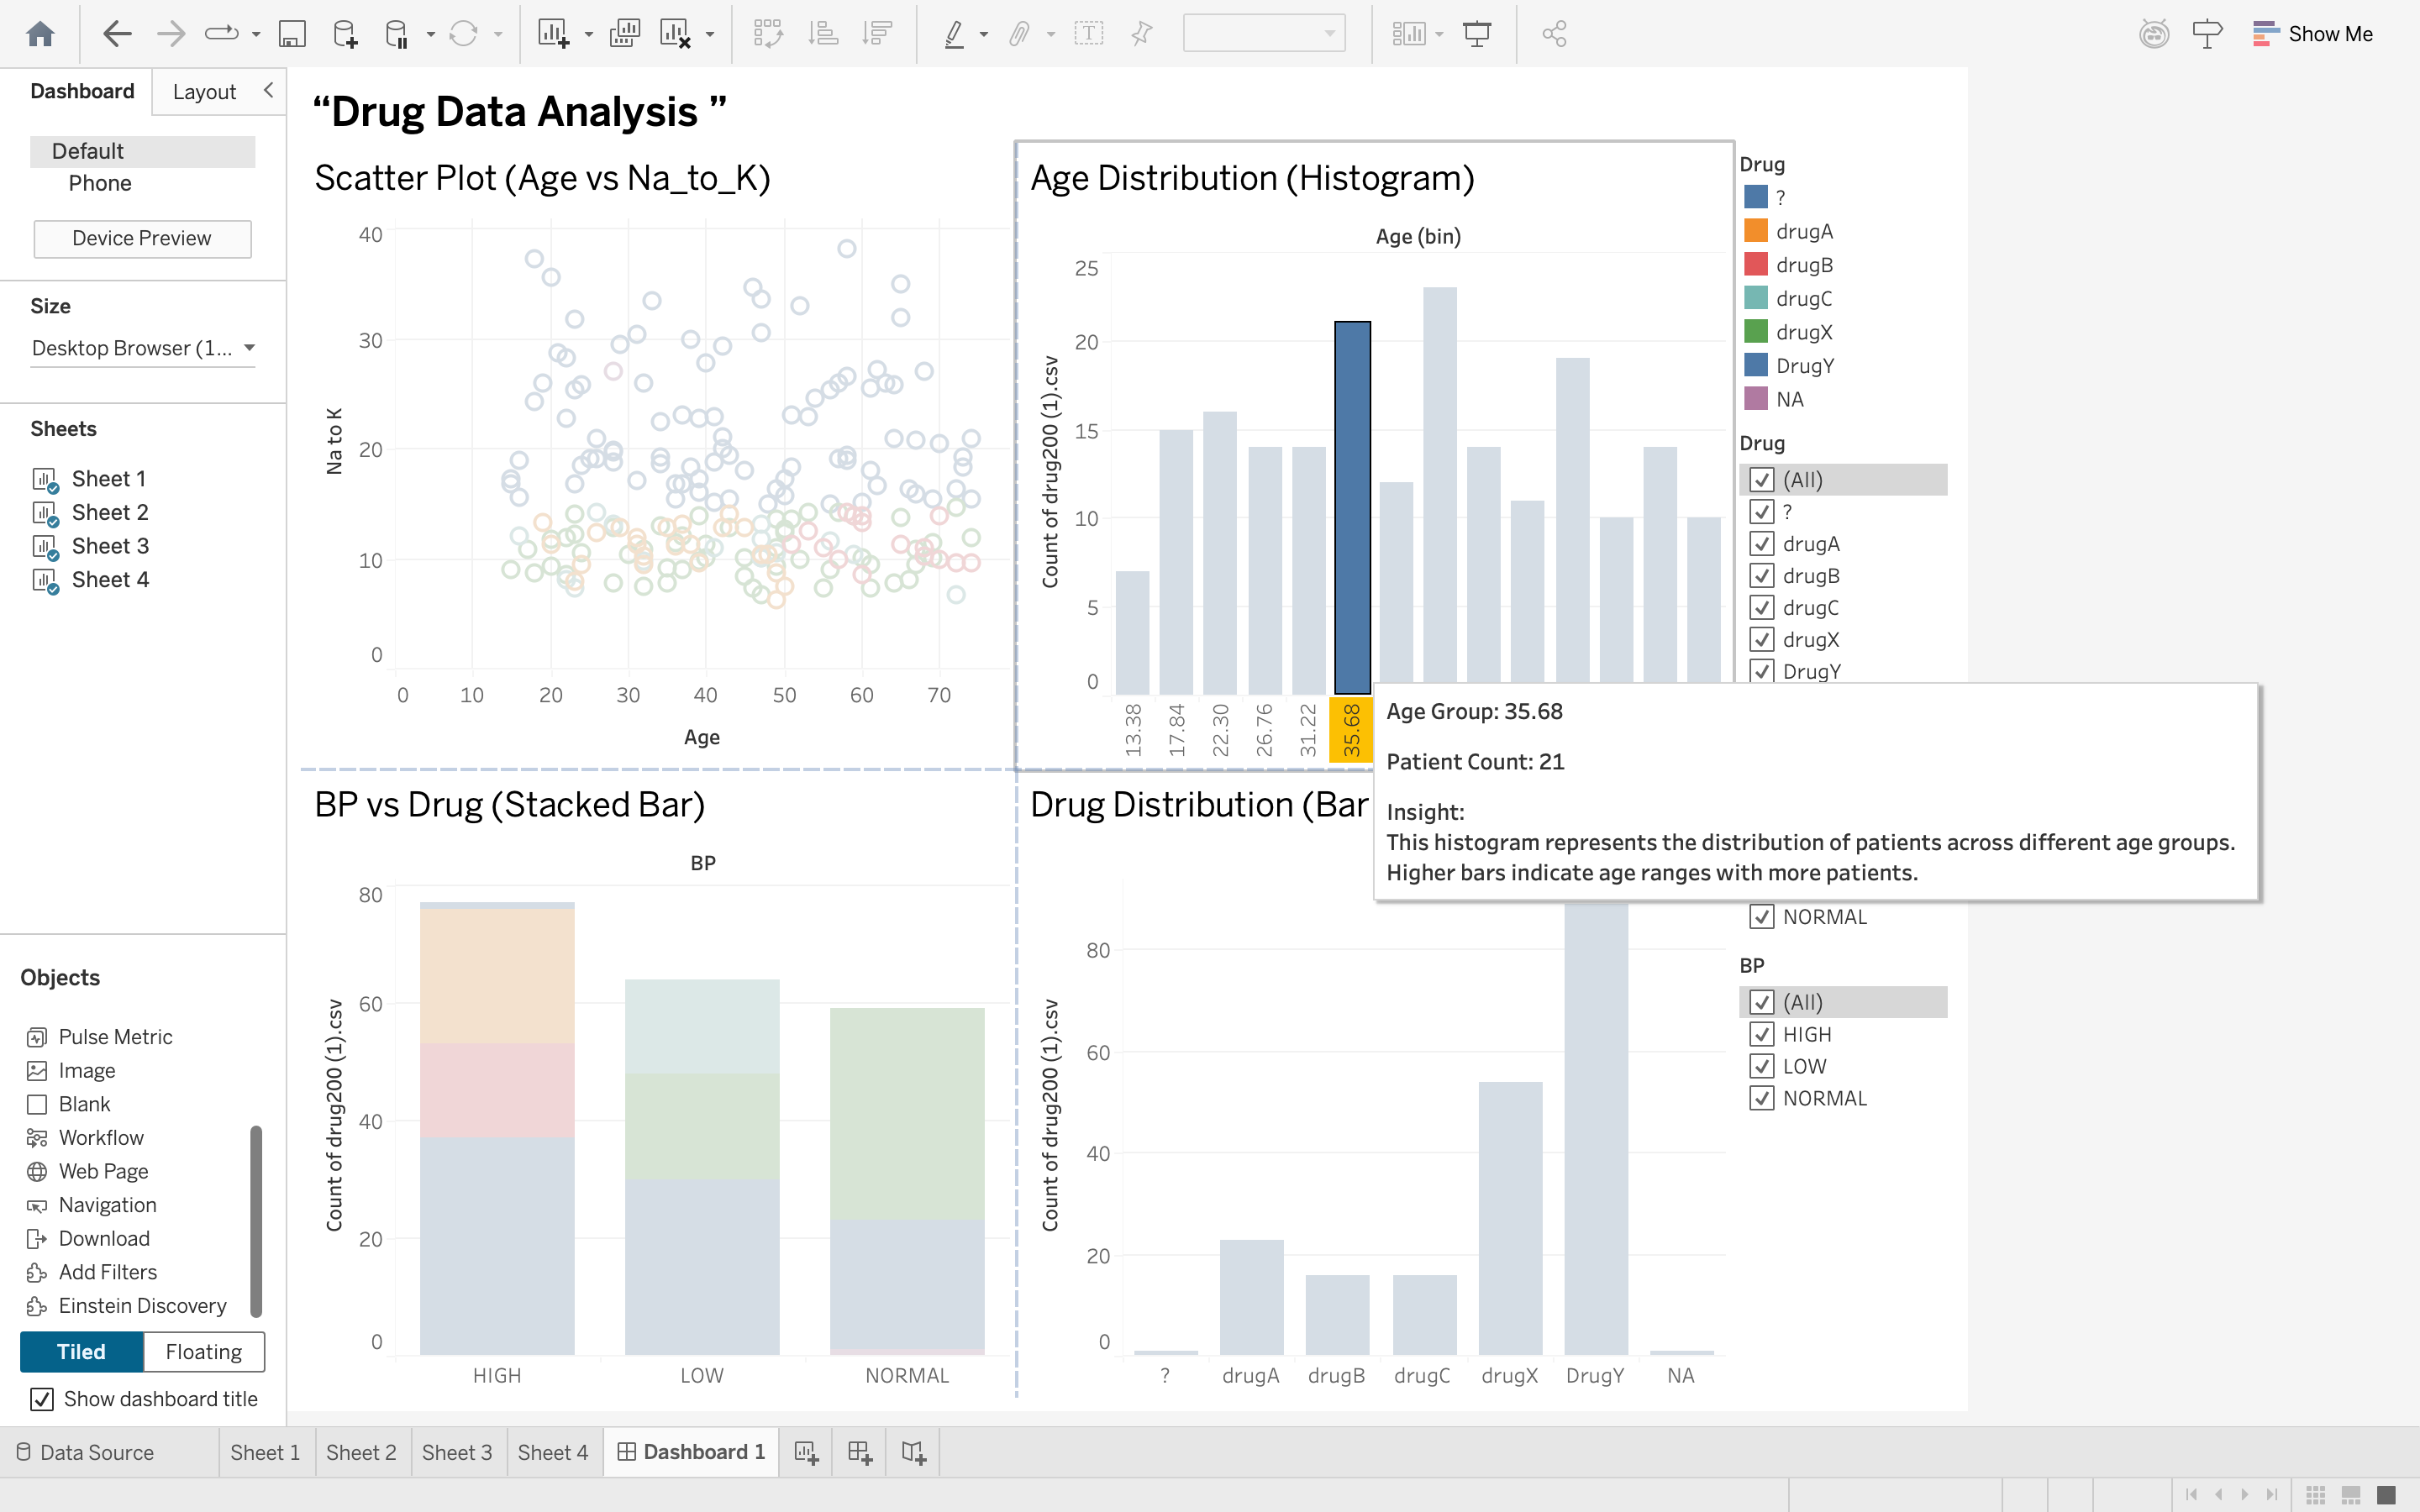

The page's visual inventory and layout, read from the dashboard file:
{"tool":"tableau","page":{"name":"Dashboard 1","canvas":[1000,800],"ordinal":0},"visuals":[{"type":"title","box":[8,8,984,37]},{"type":"worksheet","title":"Sheet 4","mark":"Automatic","rows":["Na_to_K"],"cols":["Age"],"box":[8,45,426,373.5]},{"type":"worksheet","title":"Sheet 3","mark":"Automatic","rows":["drug200 (1).csv_AA0C963CF9534E9084CA0C074F5DABD5"],"cols":["Age (bin)"],"box":[434,45,426,373.5]},{"type":"legend","title":"Sheet 4","param":"[federated.0yvx1i319t8reb1bow4qh1xm6ua2].[none:Drug:nk]","box":[860,45,132,166]},{"type":"filter","title":"Sheet 1","param":"[federated.0yvx1i319t8reb1bow4qh1xm6ua2].[none:Drug:nk]","box":[860,211,132,184]},{"type":"filter","title":"Sheet 2","param":"[federated.0yvx1i319t8reb1bow4qh1xm6ua2].[none:Cholesterol:nk]","box":[860,395,132,127]},{"type":"worksheet","title":"Sheet 2","mark":"Automatic","rows":["drug200 (1).csv_AA0C963CF9534E9084CA0C074F5DABD5"],"cols":["BP"],"box":[8,418.5,426,373.5]},{"type":"worksheet","title":"Sheet 1","mark":"Automatic","rows":["drug200 (1).csv_AA0C963CF9534E9084CA0C074F5DABD5"],"cols":["Drug"],"box":[434,418.5,426,373.5]},{"type":"filter","title":"Sheet 2","param":"[federated.0yvx1i319t8reb1bow4qh1xm6ua2].[none:BP:nk]","box":[860,522,132,108]}]}

Visuals, with their boxes on the page's 1000x800 design canvas (x1, y1, x2, y2). These are canvas units, not pixel positions in the 2420x1512 screenshot, which may show the page scaled, cropped or inside an application window:
title: {"x1": 8, "y1": 8, "x2": 992, "y2": 45}
"Sheet 4" worksheet: {"x1": 8, "y1": 45, "x2": 434, "y2": 418}
"Sheet 3" worksheet: {"x1": 434, "y1": 45, "x2": 860, "y2": 418}
"Sheet 4" legend: {"x1": 860, "y1": 45, "x2": 992, "y2": 211}
"Sheet 1" filter: {"x1": 860, "y1": 211, "x2": 992, "y2": 395}
"Sheet 2" filter: {"x1": 860, "y1": 395, "x2": 992, "y2": 522}
"Sheet 2" worksheet: {"x1": 8, "y1": 418, "x2": 434, "y2": 792}
"Sheet 1" worksheet: {"x1": 434, "y1": 418, "x2": 860, "y2": 792}
"Sheet 2" filter: {"x1": 860, "y1": 522, "x2": 992, "y2": 630}
